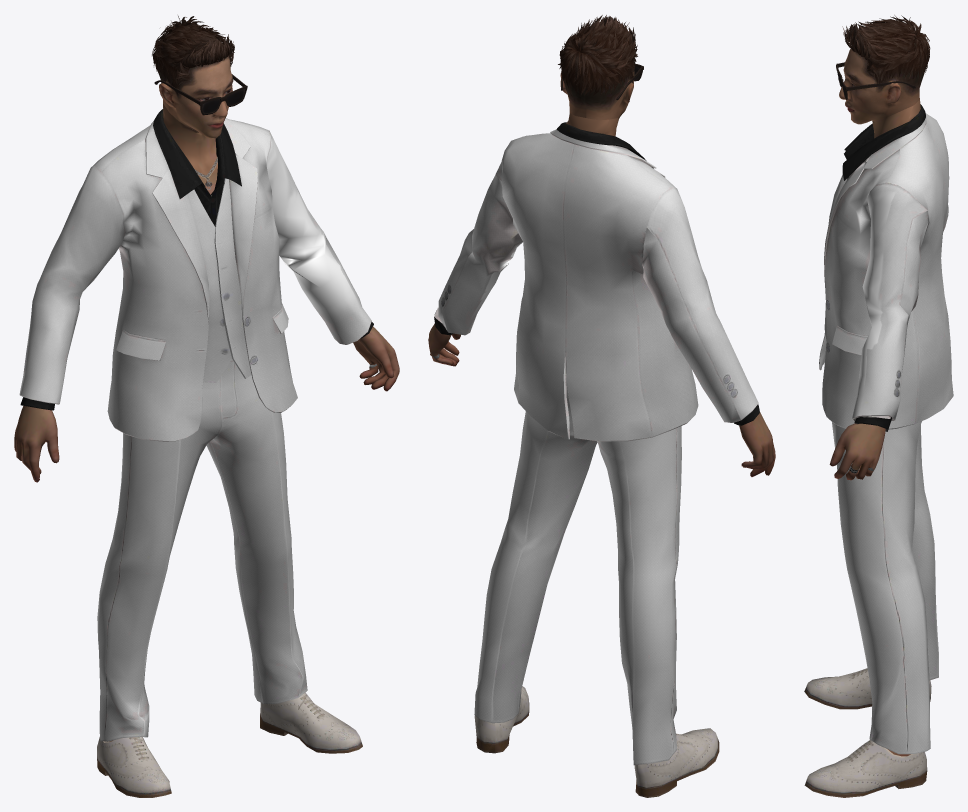
The model's file is skyler_free_fire.glb.
3 renders of one model, left to right at view 1: azimuth 30°, elevation 25°; view 2: azimuth 150°, elevation 25°; view 3: azimuth 270°, elevation 25°, orthographic. The views are drawn at different scales.
Visible parts, largest first — view 1: Object_5, Object_6, Object_8, Object_7, Object_3; view 2: Object_5, Object_6, Object_8, Object_3, Object_7; view 3: Object_5, Object_6, Object_8, Object_7, Object_3, Object_4.
Boxes of the visible parts, x1,y1,x2,y2 form: Object_5: (19,109,376,441); Object_6: (97,359,307,741); Object_8: (14,30,399,741); Object_7: (97,692,362,797); Object_3: (152,16,234,95); Object_5: (431,122,759,441); Object_6: (474,378,681,765); Object_8: (428,31,775,476); Object_3: (558,15,637,95); Object_7: (474,686,719,797); Object_5: (819,104,953,473); Object_6: (832,421,938,754); Object_8: (829,28,925,756); Object_7: (804,668,931,797); Object_3: (842,15,930,88); Object_4: (836,62,915,99).
Size of the model in its own units: 2.57 by 5.1 by 0.9572.
7 materials, 7 textured.
